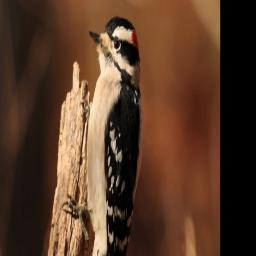Woodpecker: (61, 8, 143, 256)
